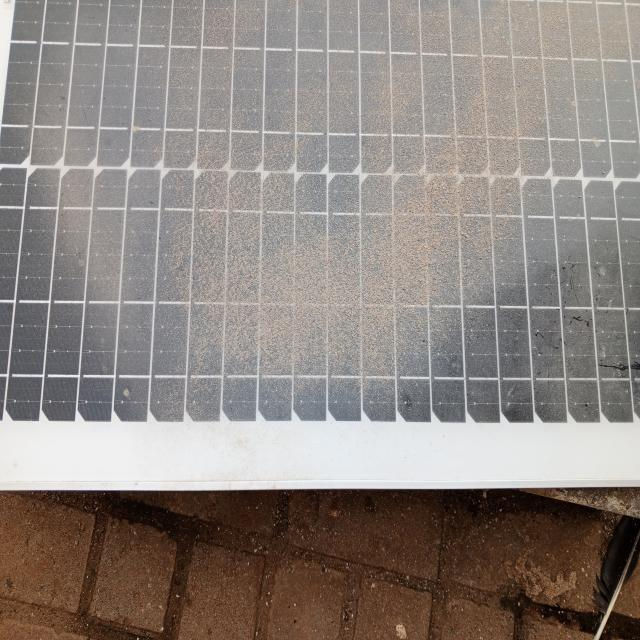Anomaly Solar Panel: (8, 2, 640, 454)
Surface Contaminant: (39, 4, 639, 426)
